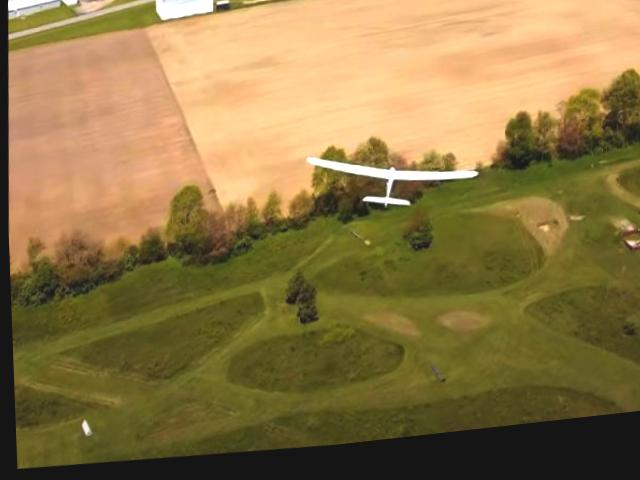iha: (300, 137, 481, 229)
